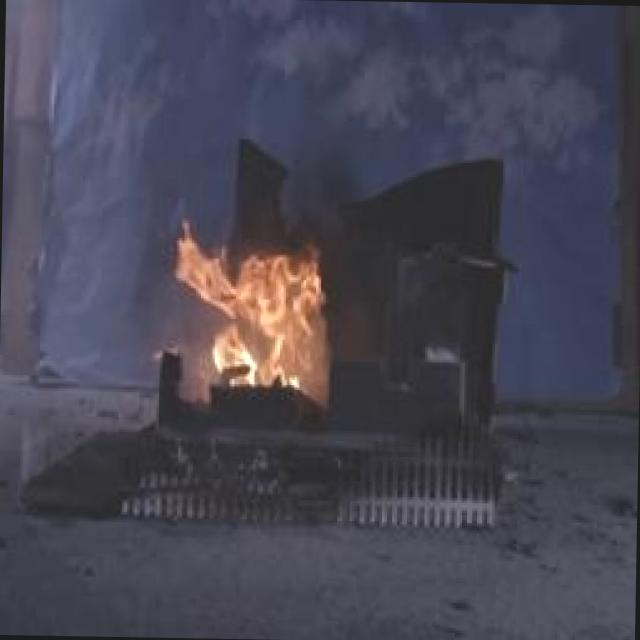fire: (148, 212, 350, 418)
